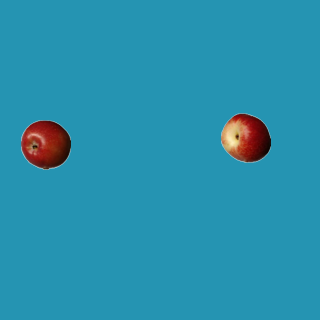Apple Braeburn: (20, 119, 70, 169)
Nectarine: (220, 112, 270, 162)
